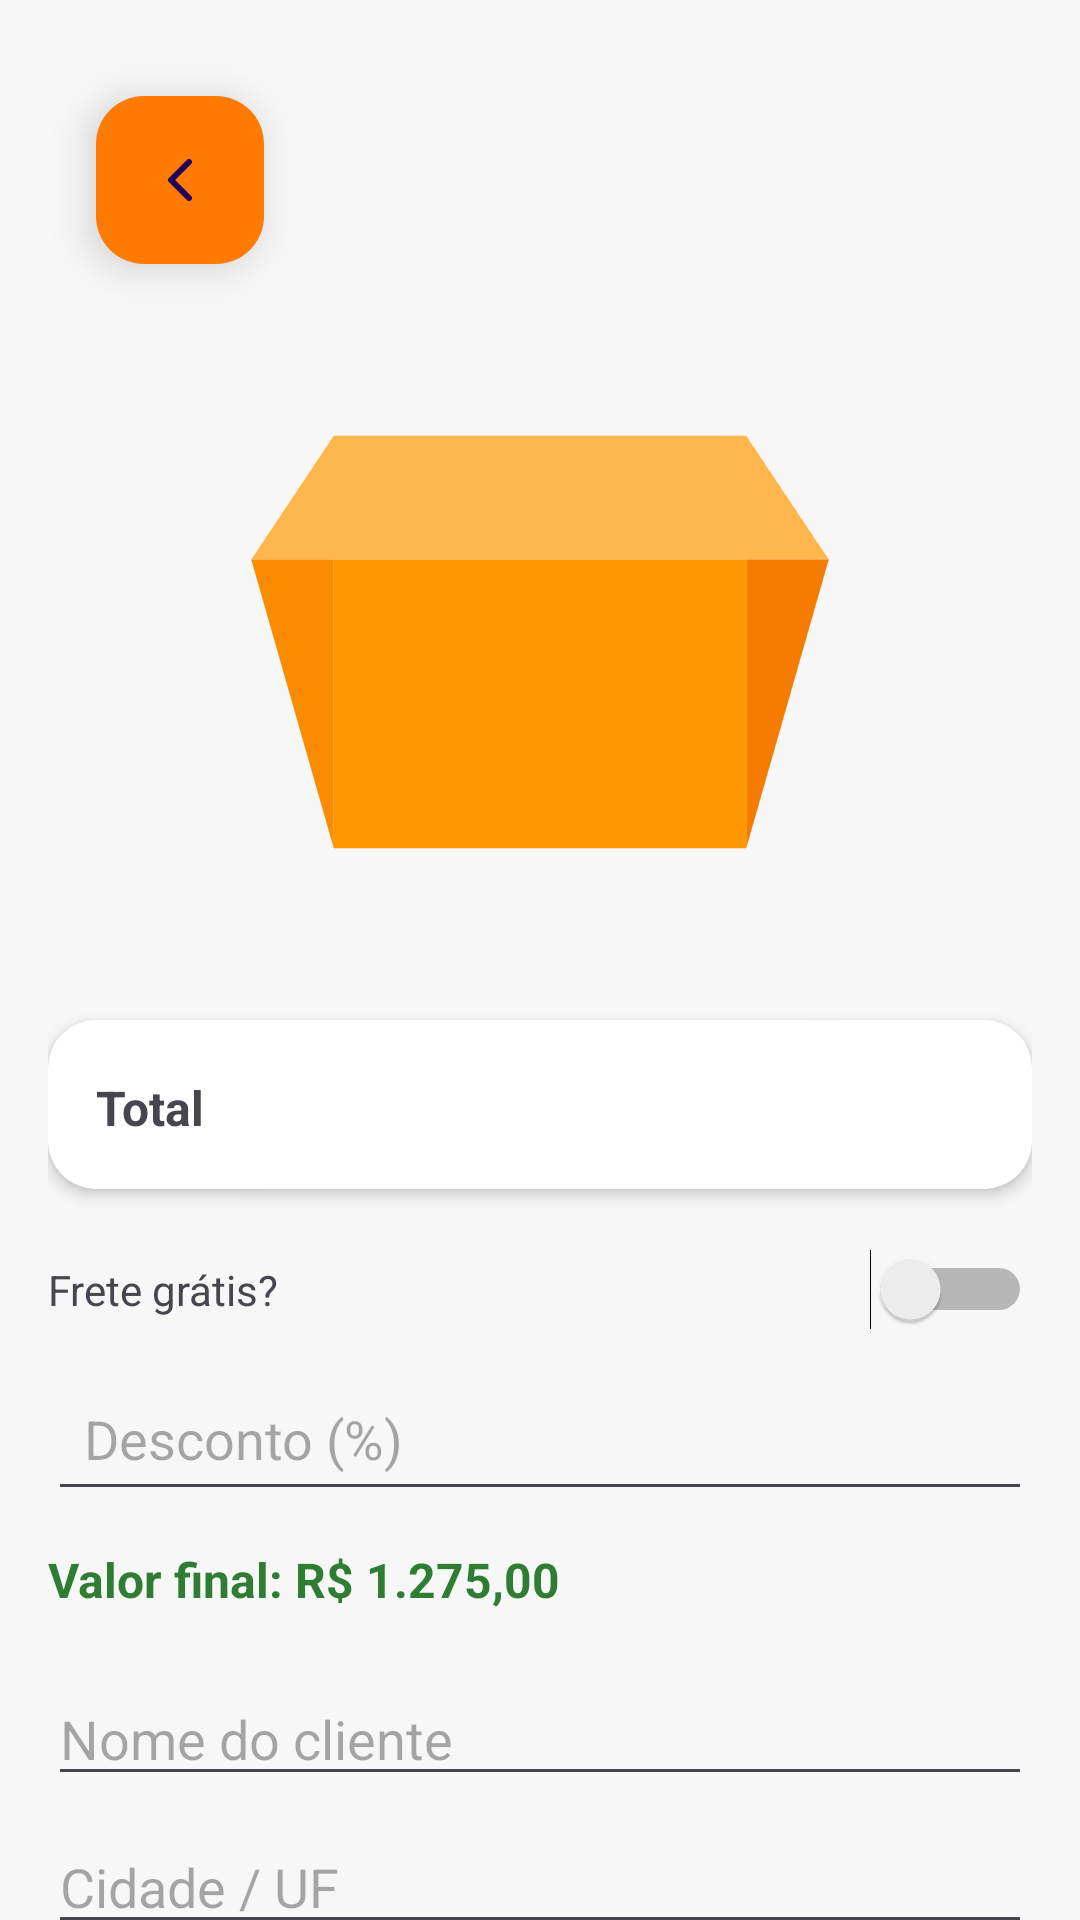

Named icons in this screenshot (1080w x 1920h) and their centers, point (x, y):
voltar: point (180, 180)
